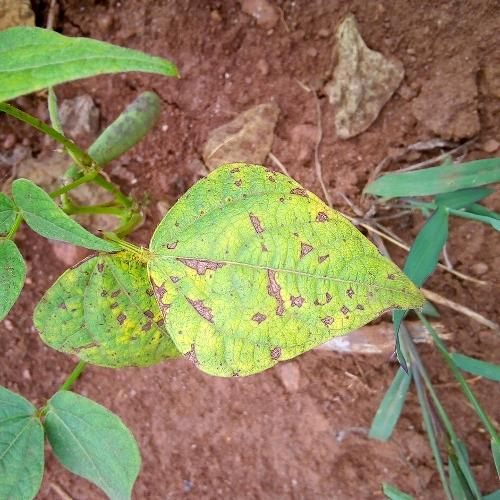hawar: (45, 175, 420, 380)
